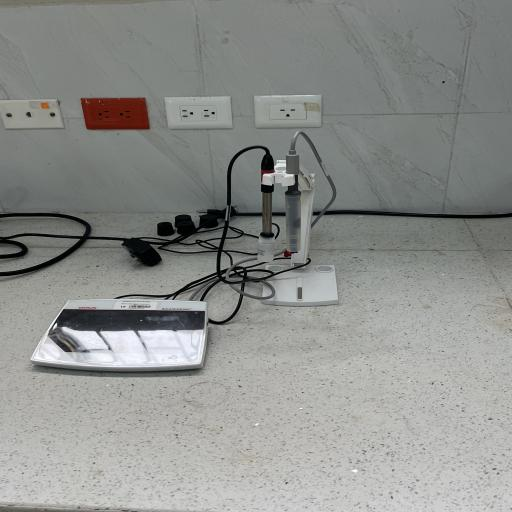Phmetro_Ohaus: (29, 290, 213, 380)
